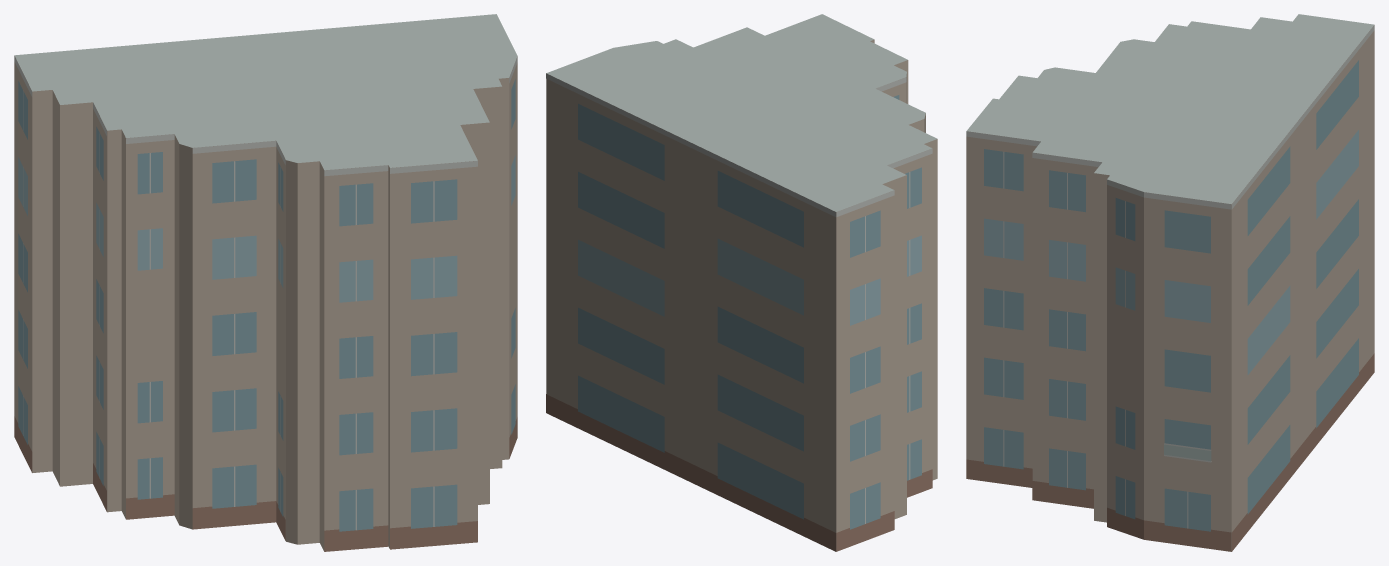
The model's file is survey-upis-32963180.glb.
The picture shows the model from 3 angles, left to right: view 1: azimuth 30°, elevation 25°; view 2: azimuth 150°, elevation 25°; view 3: azimuth 270°, elevation 25°; orthographic projection. The views are drawn at different scales.
Parts seen in each view (by area): view 1: survey-upis-32963180.tmp; view 2: survey-upis-32963180.tmp; view 3: survey-upis-32963180.tmp.
Part boxes in pixels (x1,y1,x2,y2): survey-upis-32963180.tmp: (14,14,517,551); survey-upis-32963180.tmp: (546,14,937,551); survey-upis-32963180.tmp: (966,14,1374,551).
Bounding box in the file's own units: 18.31 × 15.6 × 16.61.
